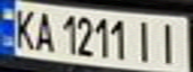1: (109, 16, 133, 61), (54, 11, 78, 55), (90, 15, 112, 58)
2: (72, 12, 93, 57)
A: (30, 7, 57, 52)
I: (151, 19, 184, 65), (130, 17, 160, 63)
K: (9, 4, 39, 51)
